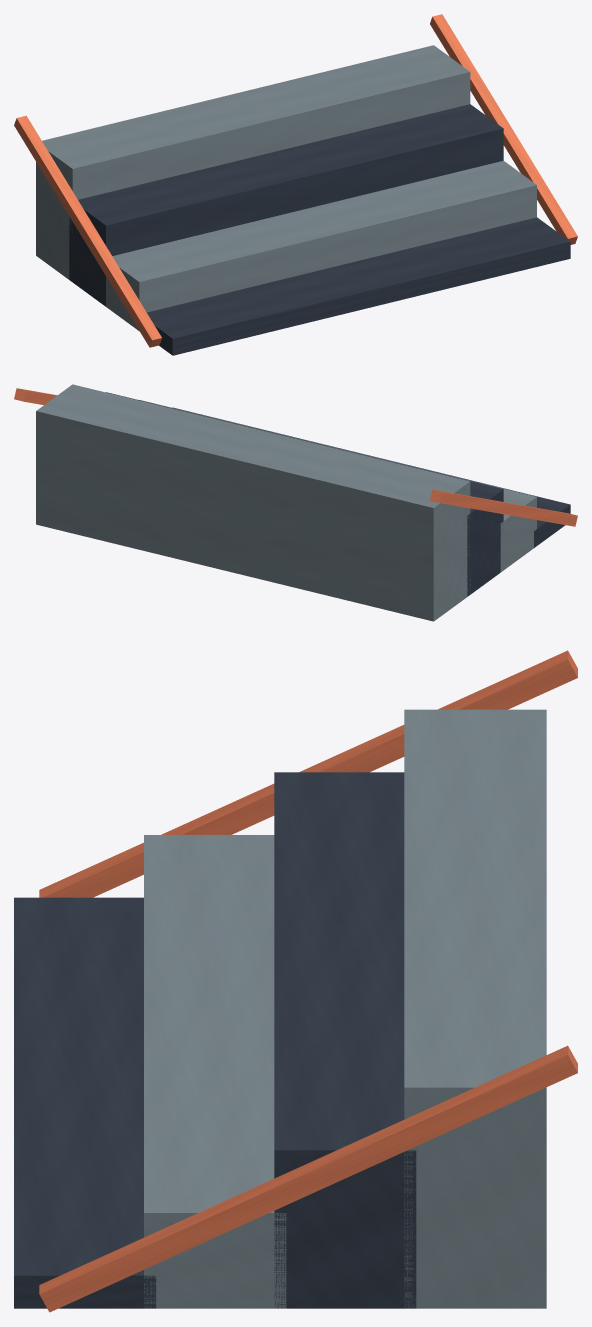
The model's file is atlas100-s021-a10.glb.
The picture shows the model from 3 angles, top to bottom: view 1: azimuth 30°, elevation 25°; view 2: azimuth 150°, elevation 25°; view 3: azimuth 270°, elevation 25°; orthographic projection. The views are drawn at different scales.
Visible parts, largest first — view 1: atlas100-s021-a10:part-003, atlas100-s021-a10:part-002, atlas100-s021-a10:part-001, atlas100-s021-a10:part-000, atlas100-s021-a10:part-004, atlas100-s021-a10:part-005; view 2: atlas100-s021-a10:part-003, atlas100-s021-a10:part-002, atlas100-s021-a10:part-001, atlas100-s021-a10:part-004, atlas100-s021-a10:part-000, atlas100-s021-a10:part-005; view 3: atlas100-s021-a10:part-003, atlas100-s021-a10:part-002, atlas100-s021-a10:part-001, atlas100-s021-a10:part-000, atlas100-s021-a10:part-005, atlas100-s021-a10:part-004.
Boxes of the visible parts, x1,y1,x2,y2 form: atlas100-s021-a10:part-003: [36, 45, 470, 279]; atlas100-s021-a10:part-002: [69, 104, 503, 306]; atlas100-s021-a10:part-001: [106, 160, 536, 330]; atlas100-s021-a10:part-000: [137, 217, 570, 355]; atlas100-s021-a10:part-004: [14, 115, 161, 347]; atlas100-s021-a10:part-005: [430, 14, 577, 244]; atlas100-s021-a10:part-003: [36, 384, 470, 621]; atlas100-s021-a10:part-002: [106, 392, 503, 596]; atlas100-s021-a10:part-001: [139, 400, 536, 572]; atlas100-s021-a10:part-004: [430, 489, 577, 526]; atlas100-s021-a10:part-000: [172, 407, 570, 547]; atlas100-s021-a10:part-005: [14, 388, 56, 404]; atlas100-s021-a10:part-003: [404, 709, 546, 1308]; atlas100-s021-a10:part-002: [274, 772, 416, 1308]; atlas100-s021-a10:part-001: [144, 835, 286, 1308]; atlas100-s021-a10:part-000: [14, 897, 156, 1308]; atlas100-s021-a10:part-005: [39, 1045, 577, 1312]; atlas100-s021-a10:part-004: [39, 650, 577, 897].
Size of the model in its own units: 2.36 by 0.7246 by 1.39.
3 materials, 3 textured.
